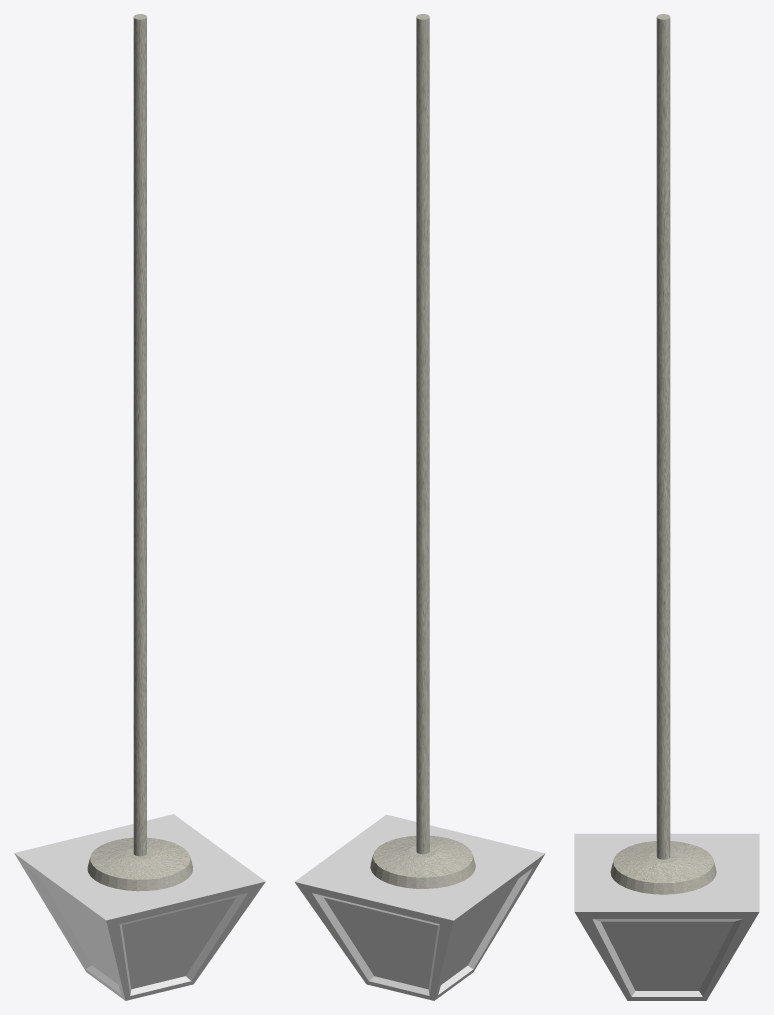
Rendered from Lampa.fbx.
3 renders of one model, left to right at view 1: azimuth 30°, elevation 25°; view 2: azimuth 150°, elevation 25°; view 3: azimuth 270°, elevation 25°, orthographic.
Parts seen in each view (by area): view 1: Lampa; view 2: Lampa; view 3: Lampa.
Boxes of the visible parts, left/top/right/bottom form: Lampa: left=14, top=14, right=265, bottom=1000; Lampa: left=294, top=14, right=545, bottom=1000; Lampa: left=574, top=14, right=759, bottom=1000.
Size of the model in its own units: 63.71 by 367 by 63.71.
